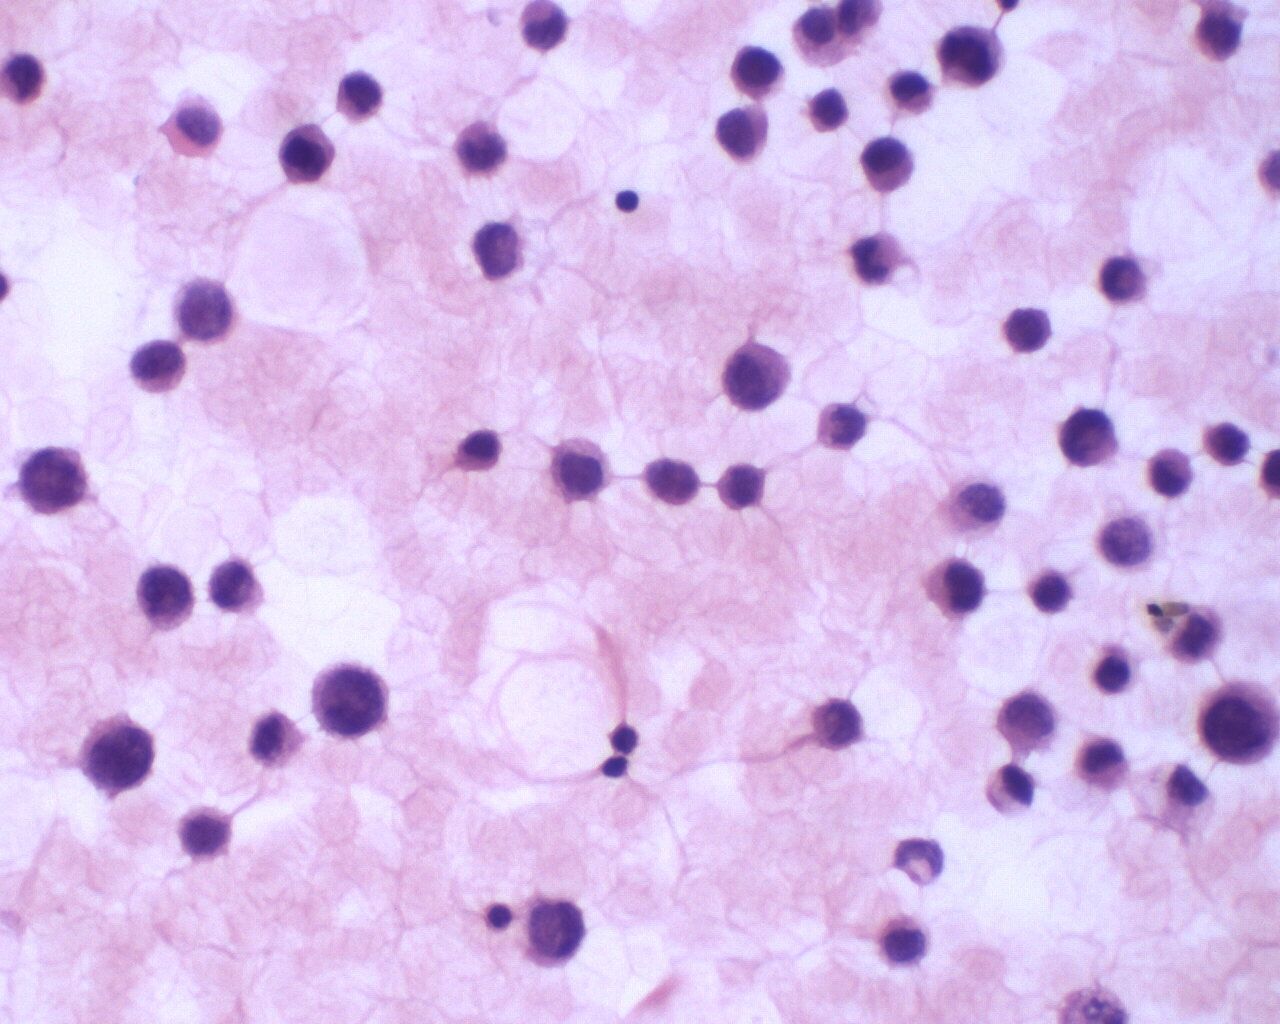ab: (308, 655, 396, 747), (71, 708, 157, 799), (1197, 676, 1280, 768), (17, 438, 93, 518), (723, 336, 796, 417), (515, 893, 590, 971), (934, 21, 1008, 93), (544, 430, 616, 504), (131, 556, 200, 632), (922, 556, 994, 623), (272, 121, 340, 191), (1055, 403, 1124, 469), (124, 332, 191, 397), (202, 555, 270, 619), (727, 39, 793, 99), (872, 914, 935, 973), (809, 696, 867, 755)
lymph: (610, 187, 643, 222)
meso: (856, 132, 920, 197)
